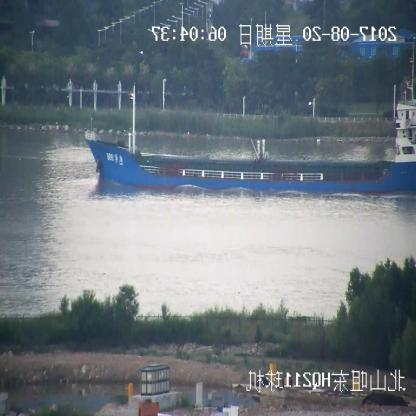Bulk Carrier: (89, 98, 416, 193)
